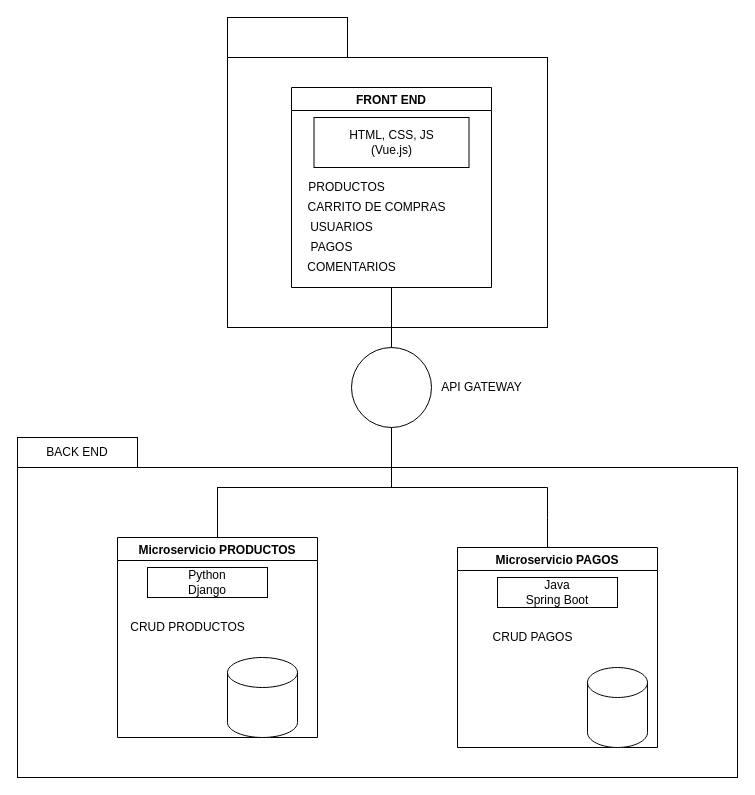
The diagram is 755 pixels wide and 795 high, and some of its shapes have lost their labels. Each missing label, with the centre of its shape:
"Componente WEB" belongs at point 287,37.
"MongoDB" belongs at point 617,707.
"PostgreSQL" belongs at point 262,697.
